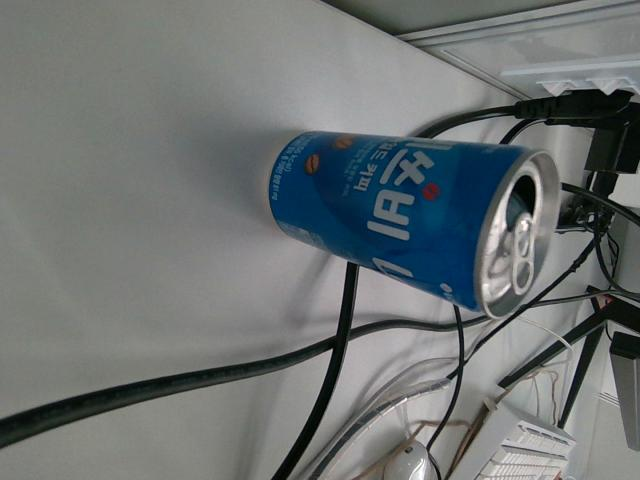letsbe: (267, 129, 561, 319)
